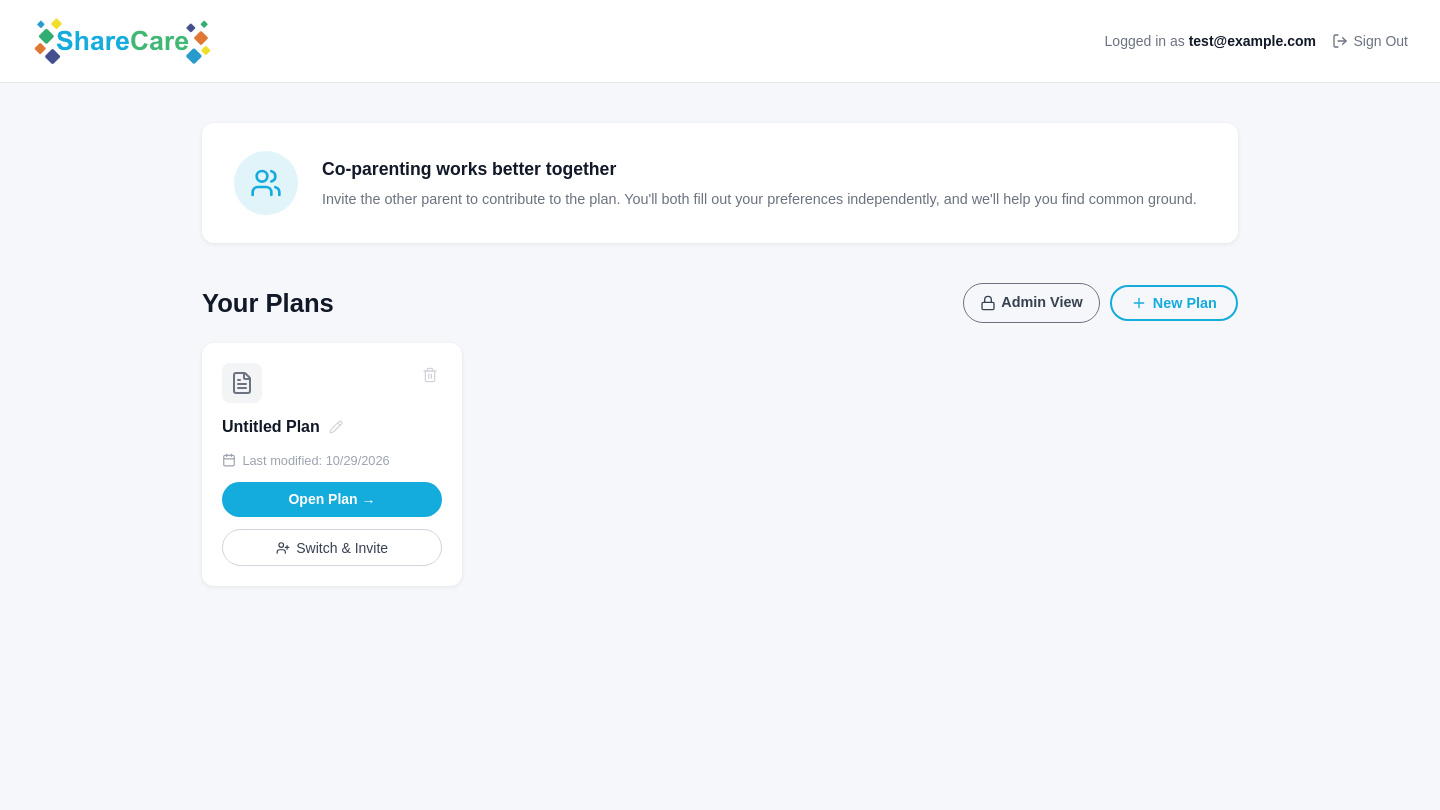
Test case: Dashboard › shows the switch prompt when invite is clicked with mode not set
Check: the heading "Untitled Plan" is shown, box [222,415,320,439]
Click the button "Switch & Invite" at [332, 548], box [222,529,442,566]
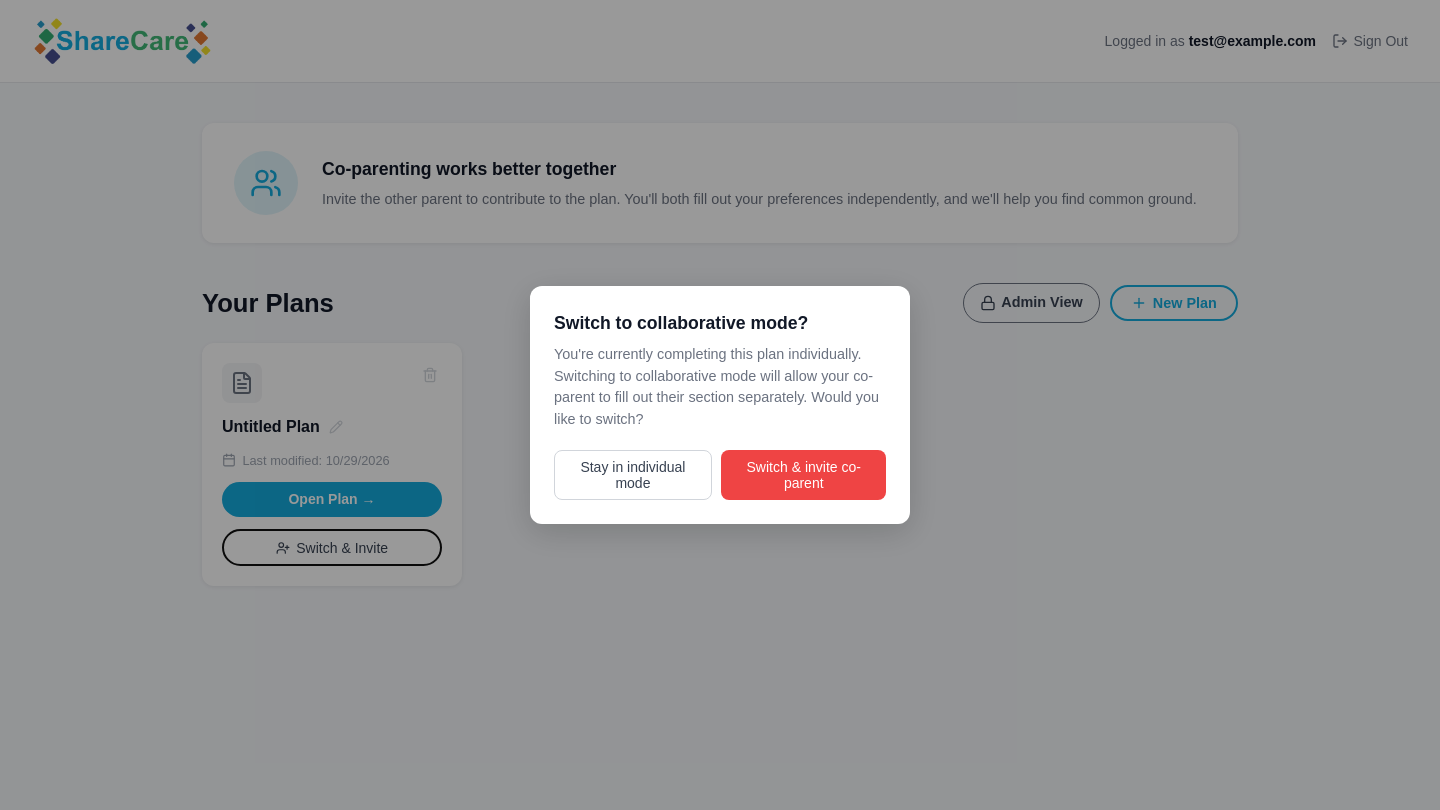
Check: the heading "Switch to collaborative mode?" is shown, box [554,313,808,333]
